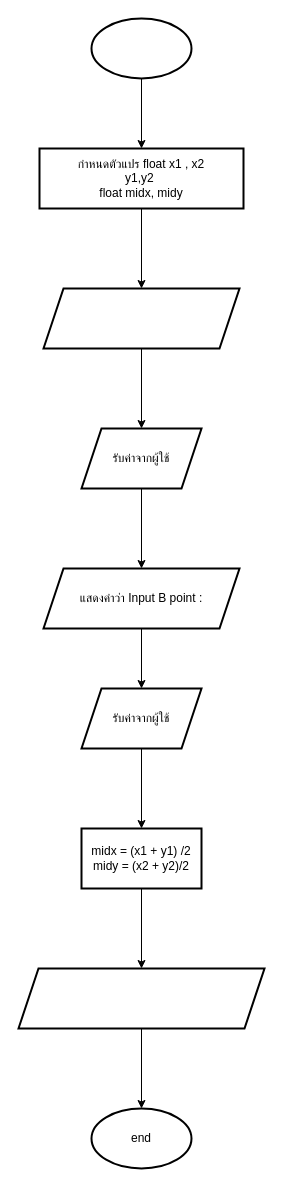
Some shapes in this 282 by 1186 pixel diagram are drawn without their labels. Here are the shapes that lost their labels. From the top down, the centre of each, then its label:
(141,48): start
(141,318): แสดงคำว่า Input A point :
(141,998): แสดงคำว่า Mid point of A and B is :
